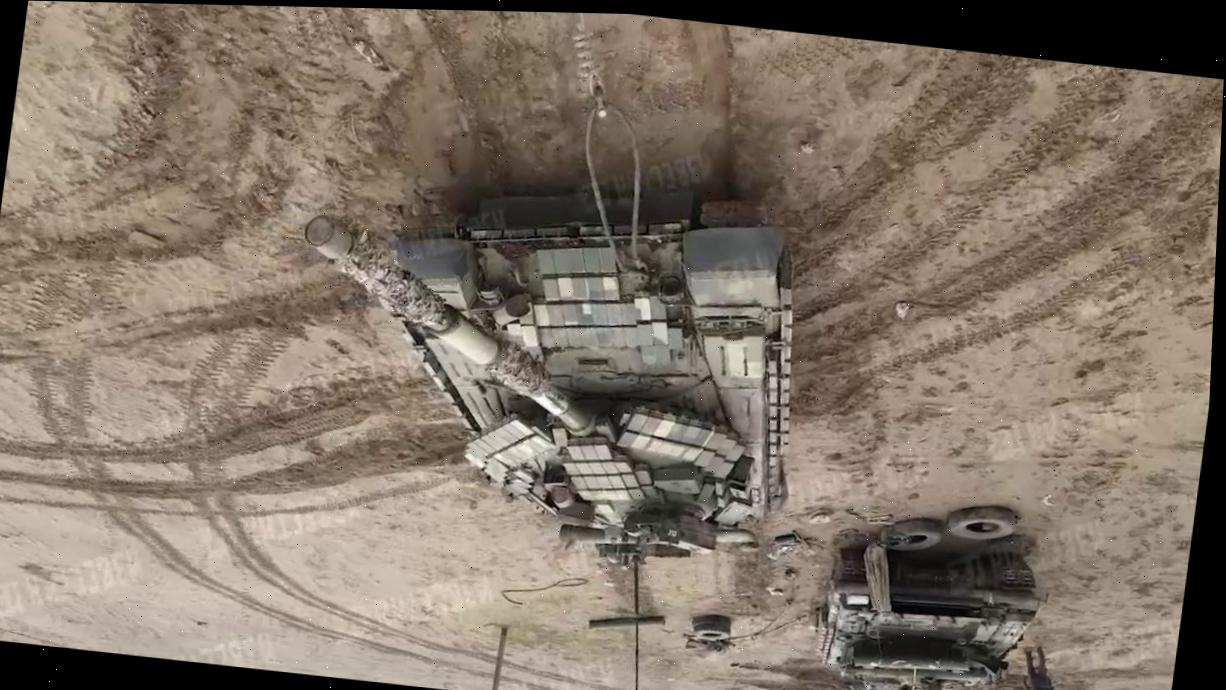person: (1014, 645, 1065, 690)
tank: (260, 142, 829, 588), (803, 528, 1053, 690)
